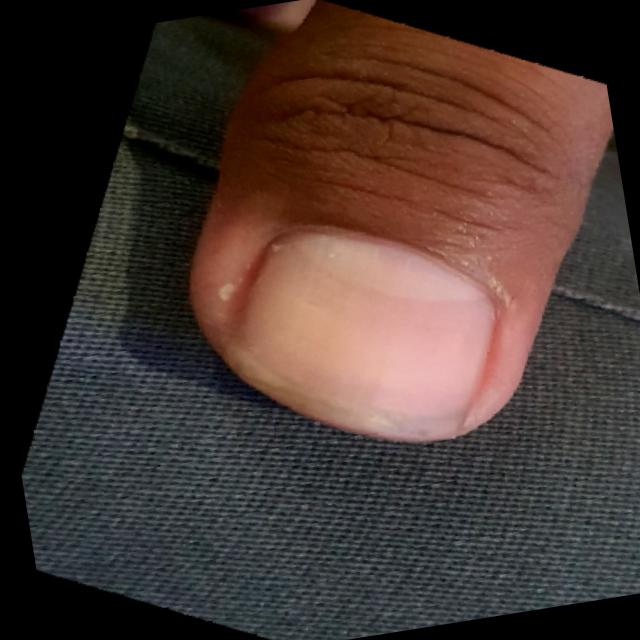Nail: (235, 228, 500, 415)
